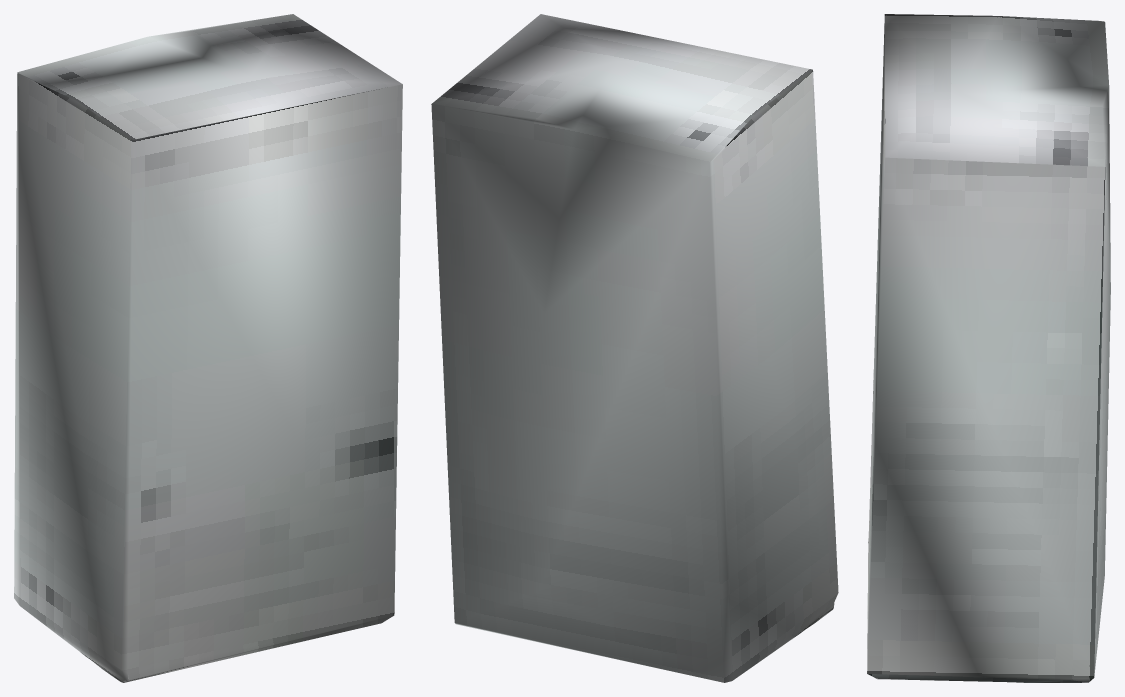
The model's file is Perricone_MD_Nutritive_Cleanser-low.glb.
3 views of the same model, side by side, from view 1: azimuth 30°, elevation 25°; view 2: azimuth 150°, elevation 25°; view 3: azimuth 270°, elevation 25° (orthographic).
Visible parts, largest first — view 1: Perricone_MD_Nutritive_Cleanser; view 2: Perricone_MD_Nutritive_Cleanser; view 3: Perricone_MD_Nutritive_Cleanser.
Boxes of the visible parts, x1=… form: Perricone_MD_Nutritive_Cleanser: x1=14, y1=14, x2=402, y2=682; Perricone_MD_Nutritive_Cleanser: x1=431, y1=14, x2=838, y2=682; Perricone_MD_Nutritive_Cleanser: x1=867, y1=14, x2=1110, y2=682.
Bounding box in the file's own units: 0.0828 × 0.1478 × 0.06.
1 material, 1 textured.
